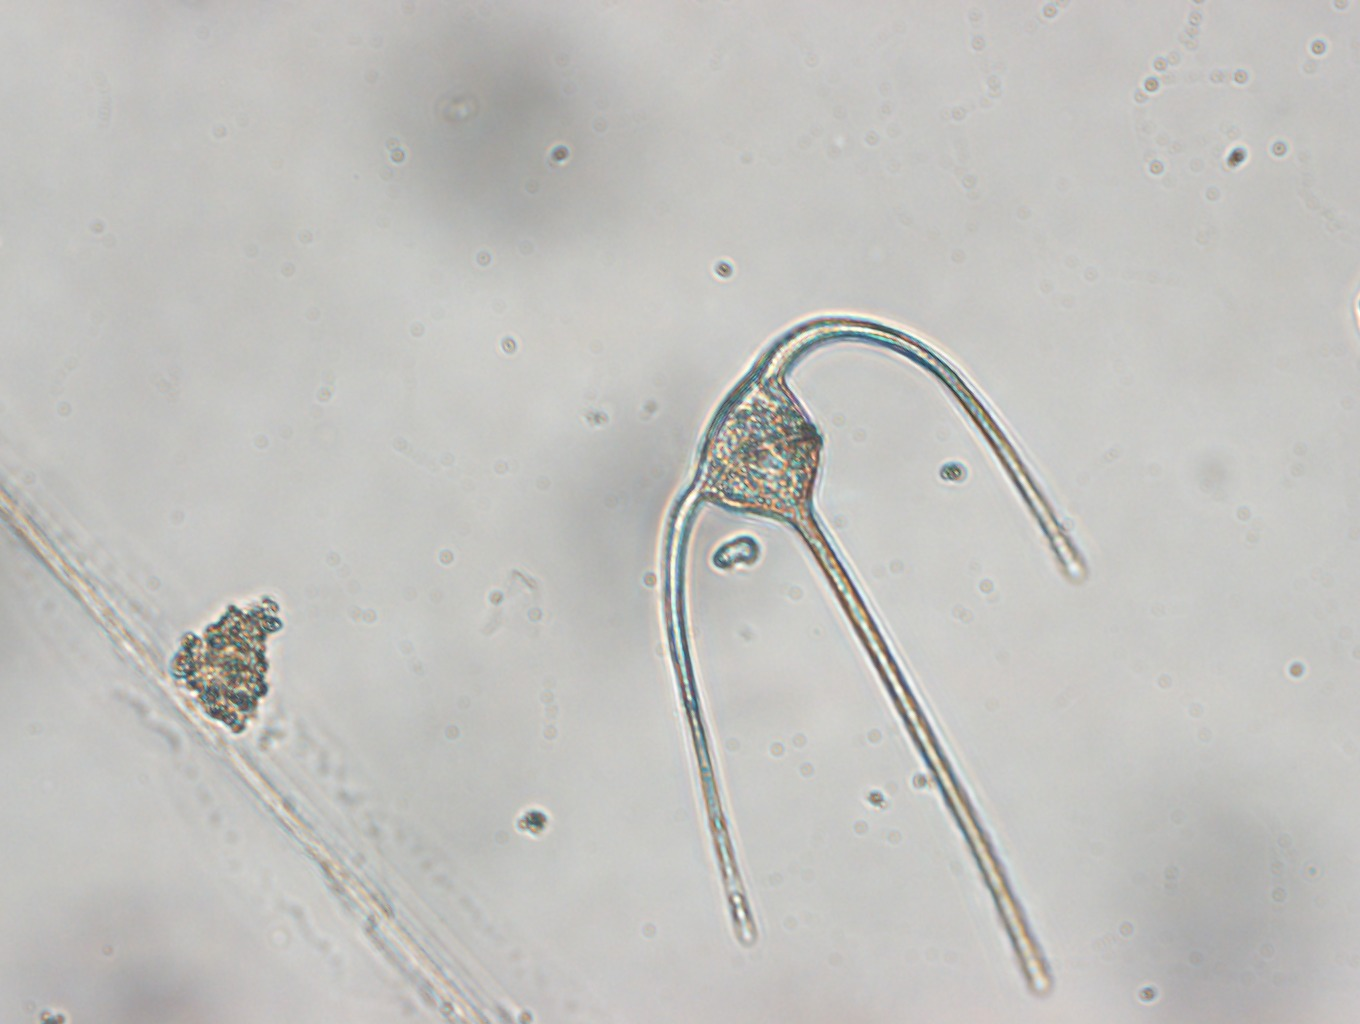ceratium trichoceros: (652, 311, 1091, 997)
